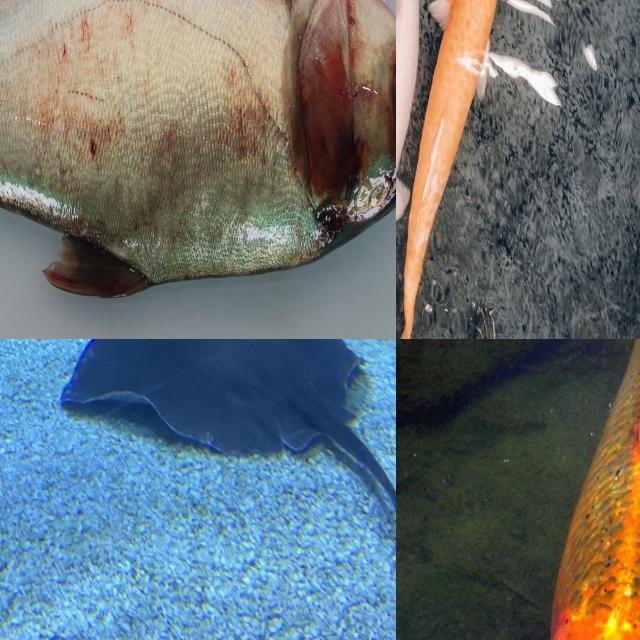fish: (0, 0, 396, 339), (52, 339, 396, 640), (487, 339, 640, 640), (396, 0, 445, 339)
